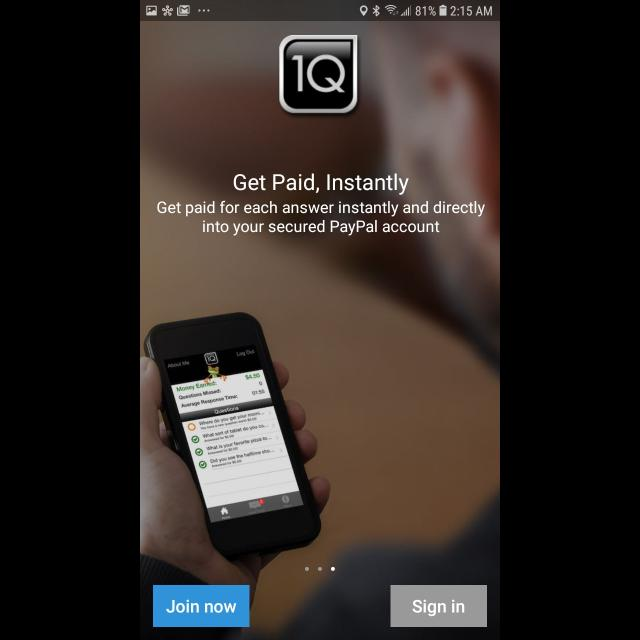backgroundimage: (140, 22, 500, 640)
image: (280, 36, 358, 114)
pageindicator: (304, 566, 336, 572)
text: (158, 200, 486, 236), (233, 173, 409, 195)
textbutton: (389, 585, 486, 627), (154, 585, 250, 627)
uppertaskbar: (140, 1, 500, 22)
